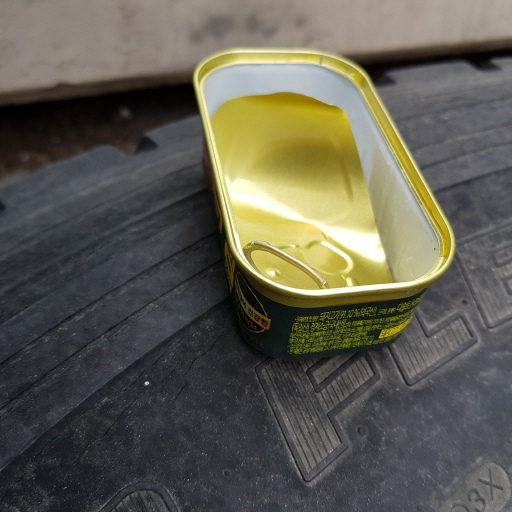Metal_2: (190, 43, 458, 355)
